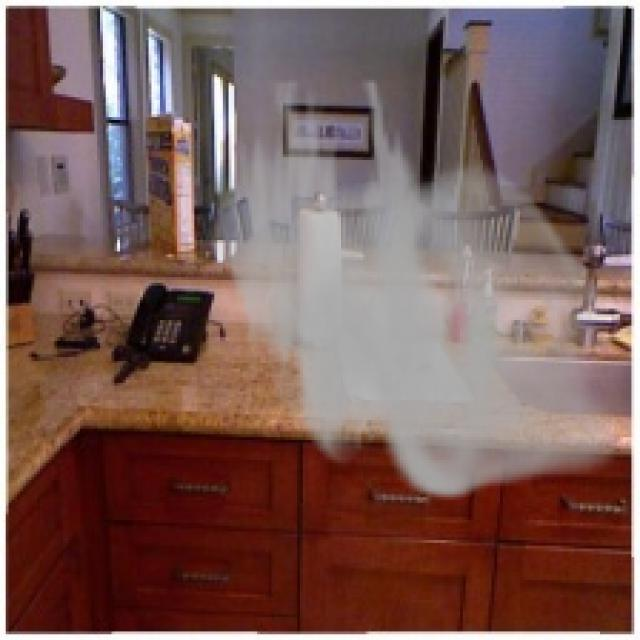Smoke: (205, 77, 618, 500)
